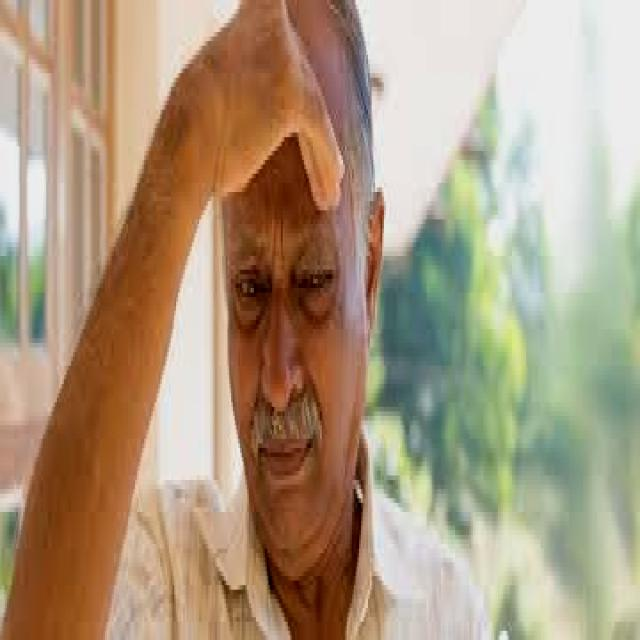normal_face: (218, 170, 382, 568)
